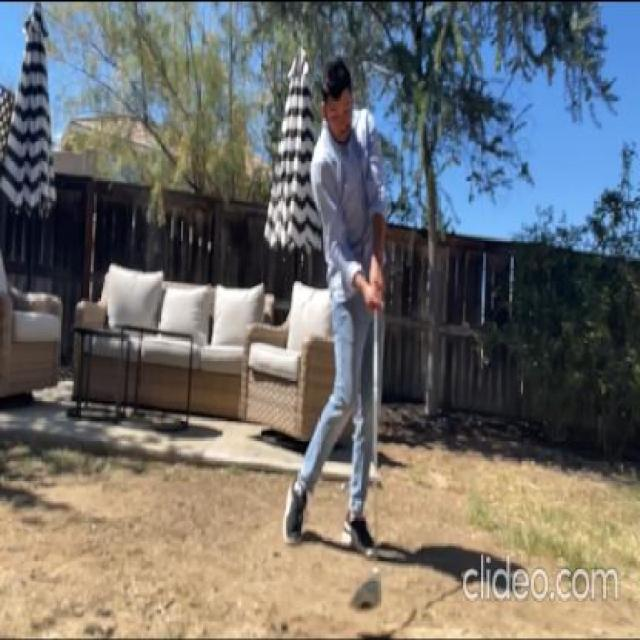club head: (350, 572, 384, 620)
